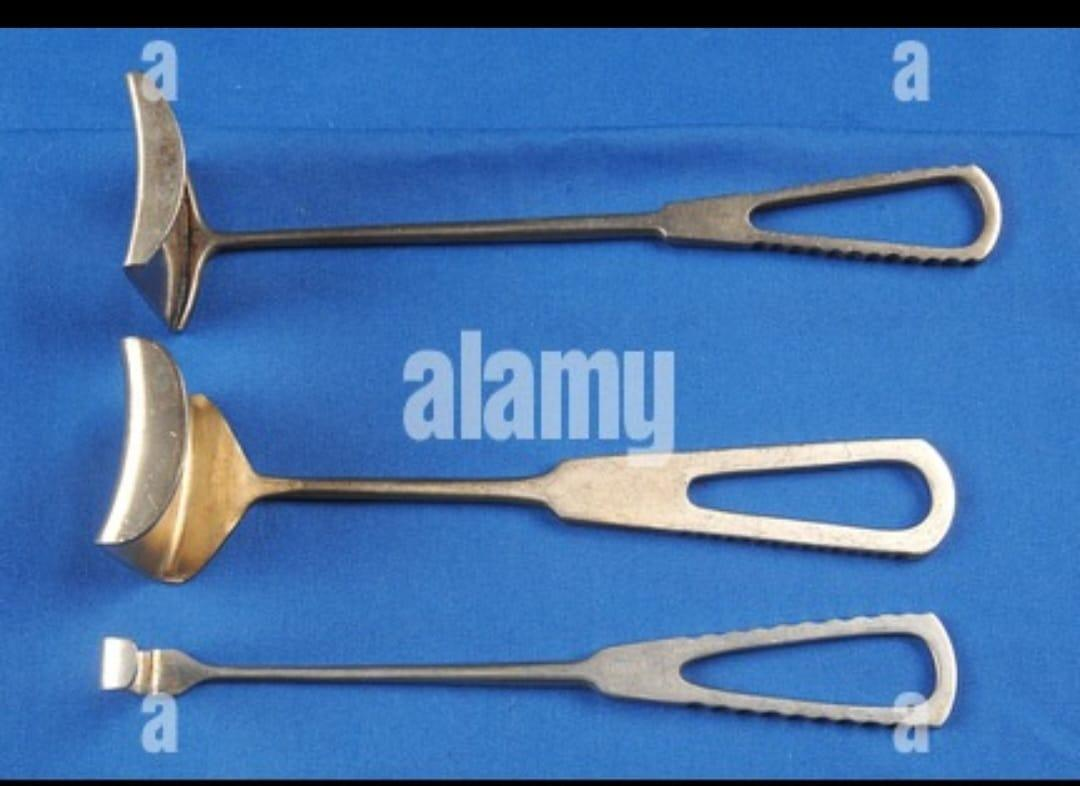Morris Retractor: (114, 63, 1026, 329), (95, 325, 962, 584)
